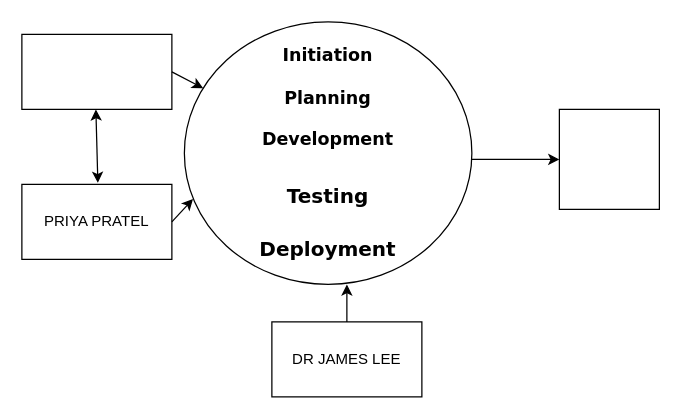
The diagram is 681 pixels wide and 419 high, and some of its shapes have lost their labels. The centre of each missing label's shape, as x and y in pixels:
"LIAM CARTER" goes at pixel 96 71.
"System Integration" goes at pixel 608 158.
